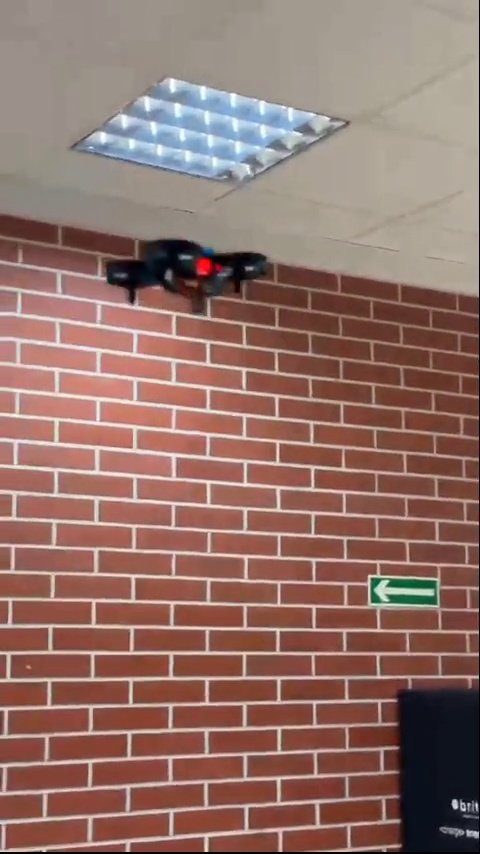drone: (105, 238, 267, 313)
